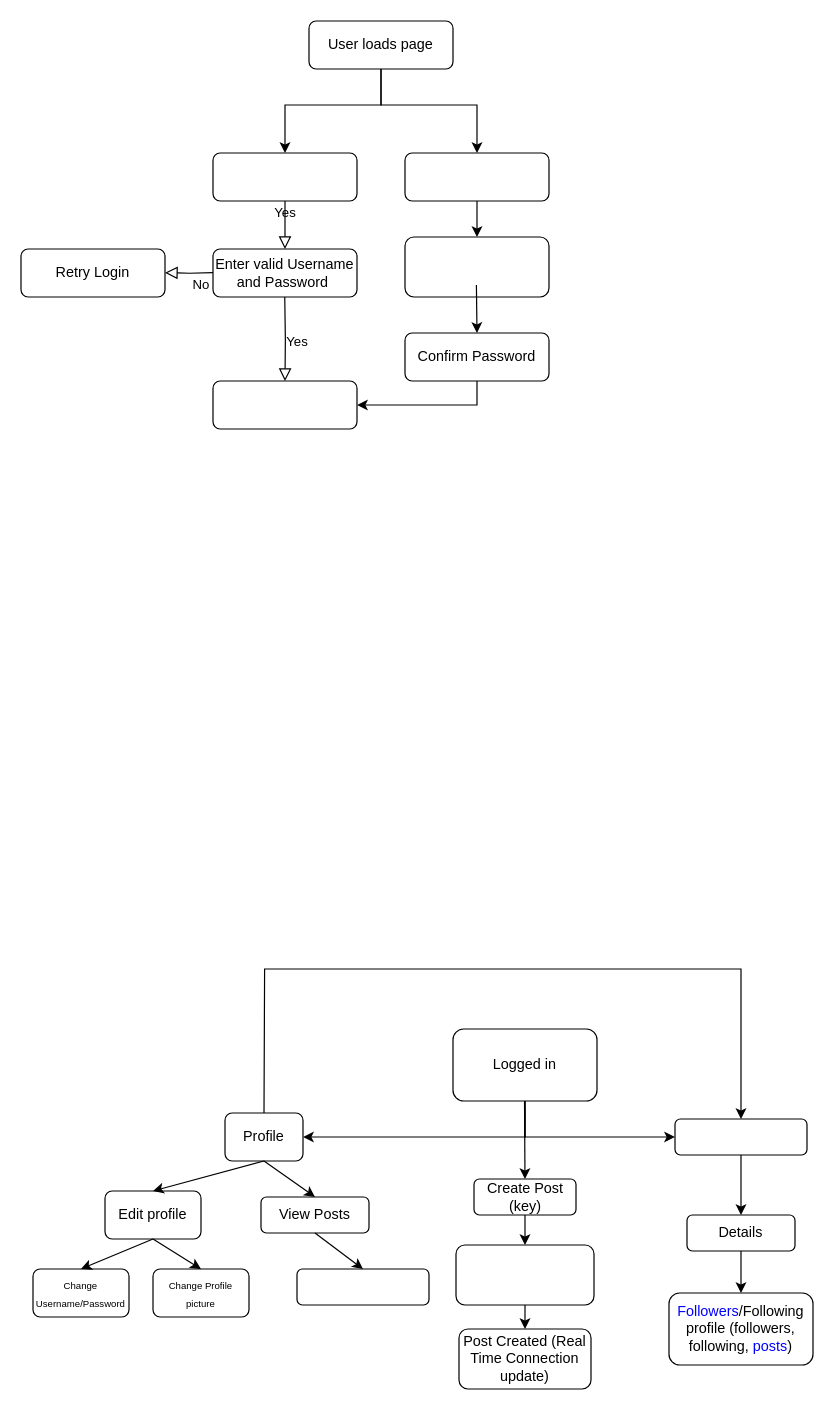
Some shapes in this 834 by 1410 pixel diagram are drawn without their labels. Each missing label, with the box of its shape:
Create account: (404, 152, 549, 201)
Create Username and Password (AND KEY): (404, 236, 549, 297)
Edit/Delete Posts: (296, 1268, 429, 1305)
Followers /Following: (674, 1118, 807, 1155)
Log In?: (212, 152, 357, 201)
Logged into account: (212, 380, 357, 429)
Post Details (Title, Description, Comments, Like ): (455, 1244, 594, 1305)
